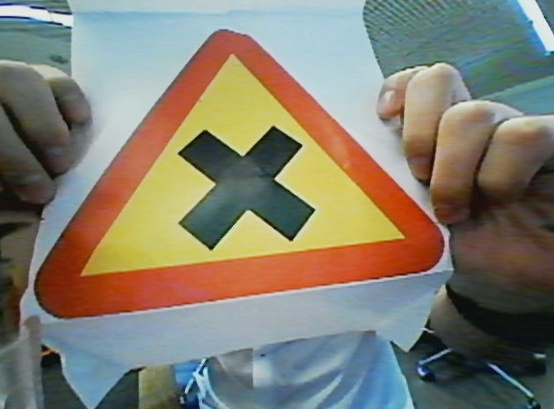junction: (33, 26, 450, 302)
